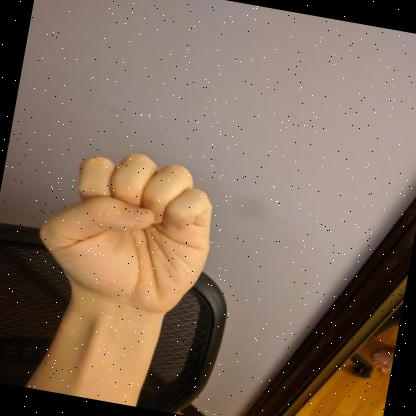E: (39, 153, 211, 322)
